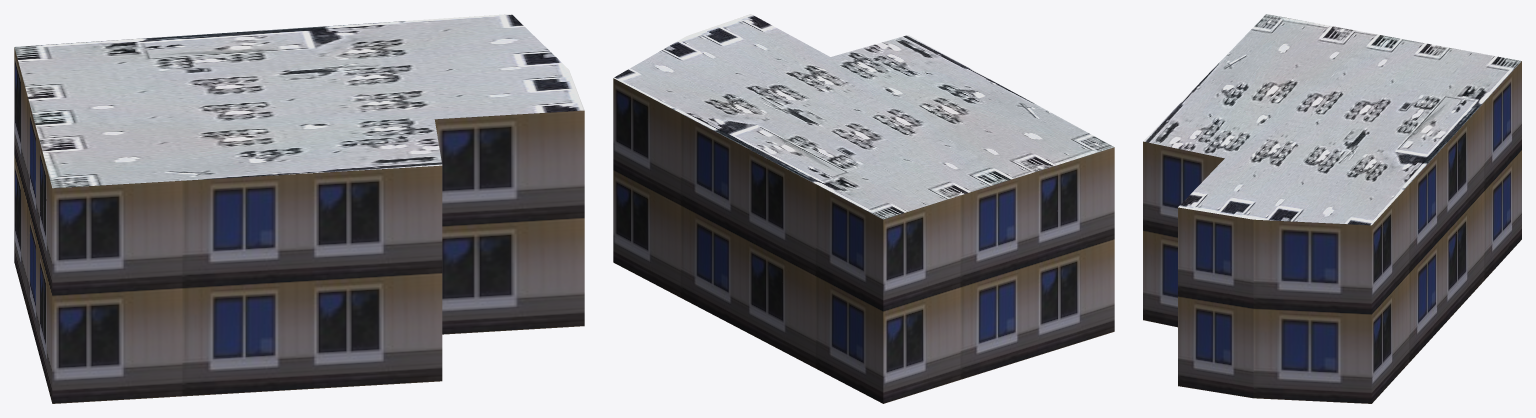
Rendered from ResTex__2575.fbx.
3 renders of one model, left to right at view 1: azimuth 30°, elevation 25°; view 2: azimuth 150°, elevation 25°; view 3: azimuth 270°, elevation 25°, orthographic. The views are drawn at different scales.
Parts seen in each view (by area): view 1: CityEngineMaterial_5_m, CityEngineMaterial_4_m; view 2: CityEngineMaterial_5_m, CityEngineMaterial_4_m; view 3: CityEngineMaterial_5_m, CityEngineMaterial_4_m.
Boxes of the visible parts, x1,y1,x2,y2 form: CityEngineMaterial_5_m: (14,47,584,403); CityEngineMaterial_4_m: (14,14,584,188); CityEngineMaterial_5_m: (613,78,1114,403); CityEngineMaterial_4_m: (613,14,1114,219); CityEngineMaterial_5_m: (1143,61,1521,403); CityEngineMaterial_4_m: (1143,14,1521,225).
Bounding box in the file's own units: 15.23 × 6 × 11.53.
2 materials, 2 textured.
